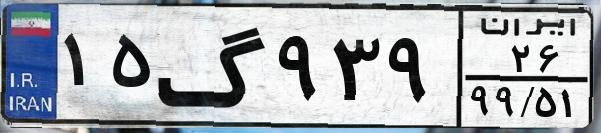1: (57, 26, 110, 100), (560, 70, 590, 125)
2: (508, 27, 537, 80)
3: (330, 28, 385, 110)
5: (110, 28, 156, 98), (535, 70, 560, 125)
6: (537, 27, 568, 80)
9: (270, 28, 330, 110), (385, 28, 445, 110), (470, 70, 495, 125), (495, 70, 520, 125)
گ: (156, 12, 270, 120)
